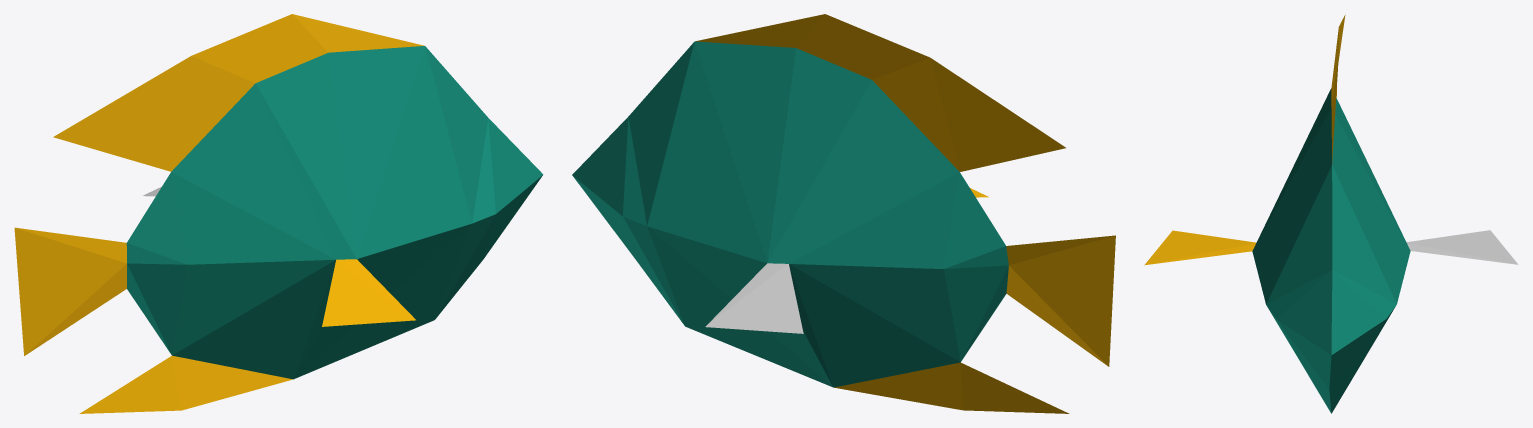
Rendered from fish3.obj.
3 views of the same model, side by side, from view 1: azimuth 30°, elevation 25°; view 2: azimuth 150°, elevation 25°; view 3: azimuth 270°, elevation 25° (orthographic). The views are drawn at different scales.
Size of the model in its own units: 3.5 by 2.3 by 2.43.
